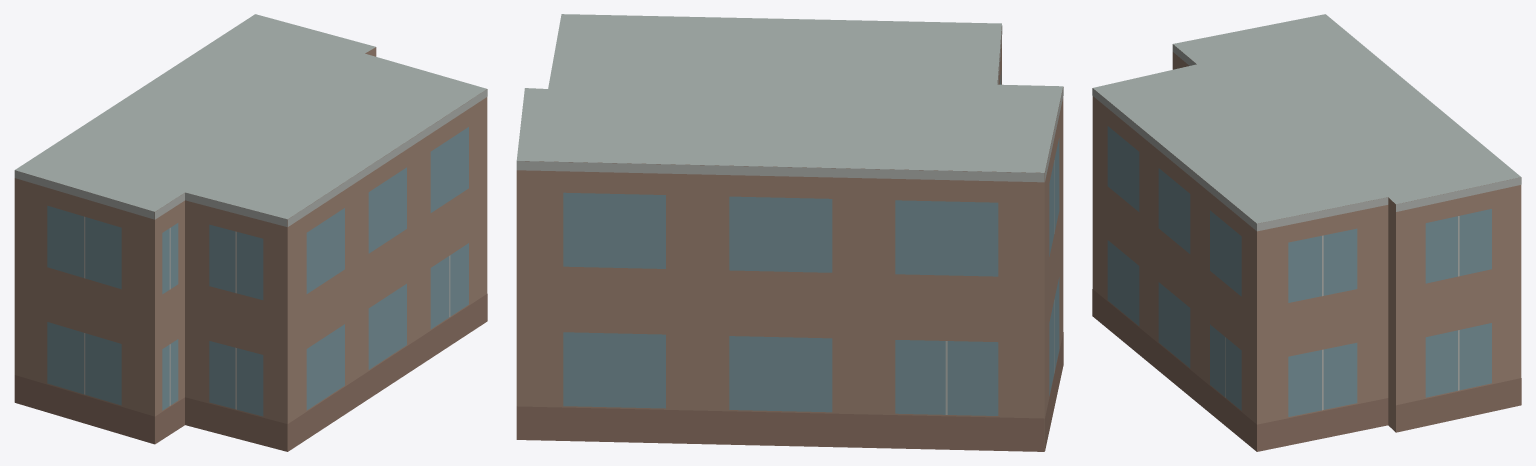
Rendered from survey-upis-32663161.glb.
The picture shows the model from 3 angles, left to right: view 1: azimuth 30°, elevation 25°; view 2: azimuth 150°, elevation 25°; view 3: azimuth 270°, elevation 25°; orthographic projection. The views are drawn at different scales.
Visible parts, largest first — view 1: survey-upis-32663161.tmp; view 2: survey-upis-32663161.tmp; view 3: survey-upis-32663161.tmp.
Part boxes in pixels (box(x1,y1,x2,y2)): survey-upis-32663161.tmp: box(14, 14, 487, 451); survey-upis-32663161.tmp: box(516, 14, 1063, 451); survey-upis-32663161.tmp: box(1092, 14, 1521, 451).
Size of the model in its own units: 14.2 by 7.2 by 12.27.
